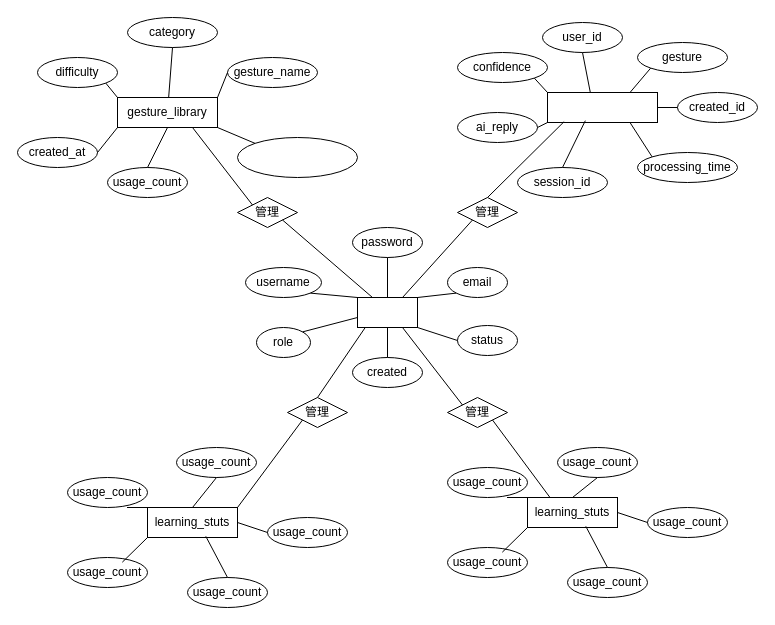
Image size: 775x625. Some labels were removed from this diagram. The shapes that lost their labels are listed below. From the top down, each one's box as (x1, y1, x2, y2) in pixels, then its label:
(546, 92, 658, 122): recognition_history
(236, 136, 358, 178): gesture_sescription
(356, 296, 418, 328): users
